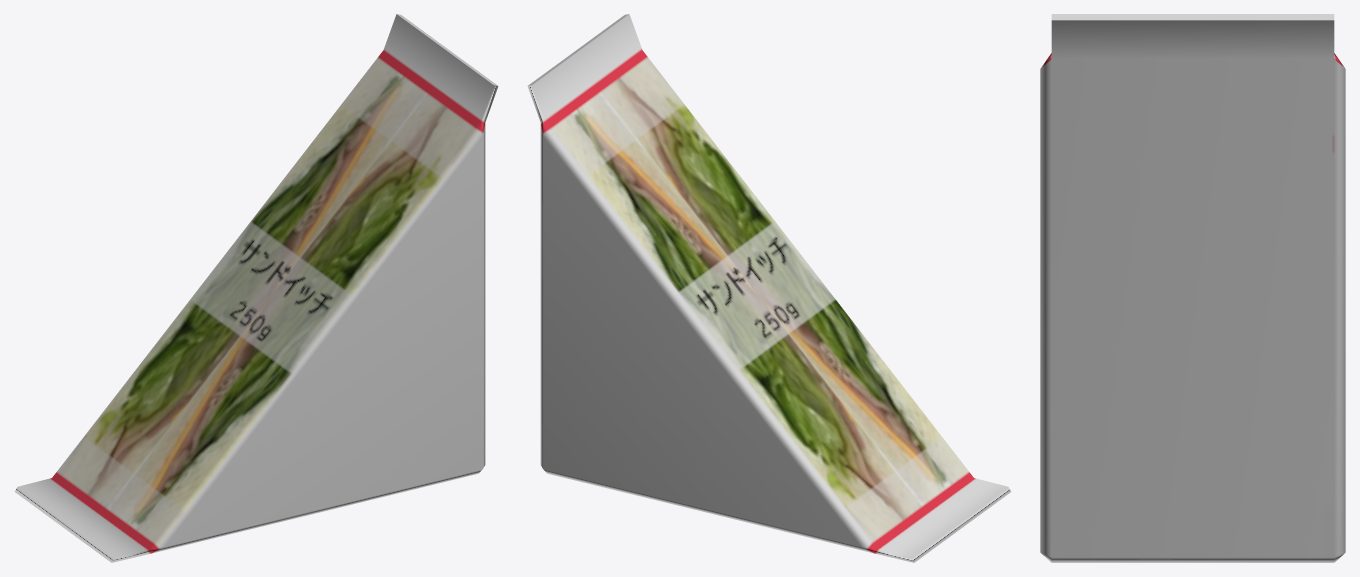
The model's file is SM_Sandwich.fbx.
The picture shows the model from 3 angles, left to right: view 1: azimuth 30°, elevation 25°; view 2: azimuth 150°, elevation 25°; view 3: azimuth 270°, elevation 25°; orthographic projection. The views are drawn at different scales.
Visible parts, largest first — view 1: SM_Sandwich_LOD0; view 2: SM_Sandwich_LOD0; view 3: SM_Sandwich_LOD0.
Boxes of the visible parts, left/top/right/bottom form: SM_Sandwich_LOD0: left=14, top=14, right=498, bottom=562; SM_Sandwich_LOD0: left=527, top=14, right=1011, bottom=562; SM_Sandwich_LOD0: left=1040, top=14, right=1345, bottom=562.
Size of the model in its own units: 17.01 by 8 by 16.17.
Materials: 1 (1 with a texture image).
